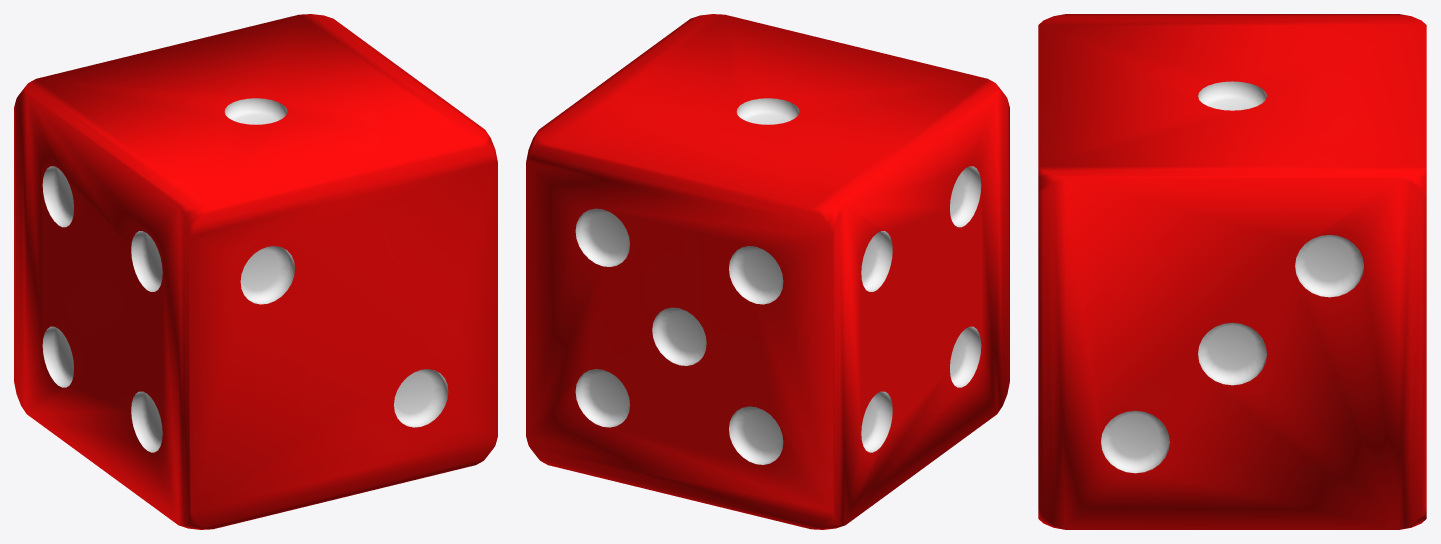
Rendered from Dice.dae.
The picture shows the model from 3 angles, left to right: view 1: azimuth 30°, elevation 25°; view 2: azimuth 150°, elevation 25°; view 3: azimuth 270°, elevation 25°; orthographic projection. The views are drawn at different scales.
Parts seen in each view (by area): view 1: group_0 (×8); view 2: group_0 (×11); view 3: group_0 (×5).
Part boxes in pixels (x1,y1,x2,y2): group_0 (×8): (14, 14, 497, 529); group_0 (×11): (526, 14, 1009, 529); group_0 (×5): (1038, 14, 1426, 529).
Bounding box in the file's own units: 12.75 × 12.75 × 12.75.
